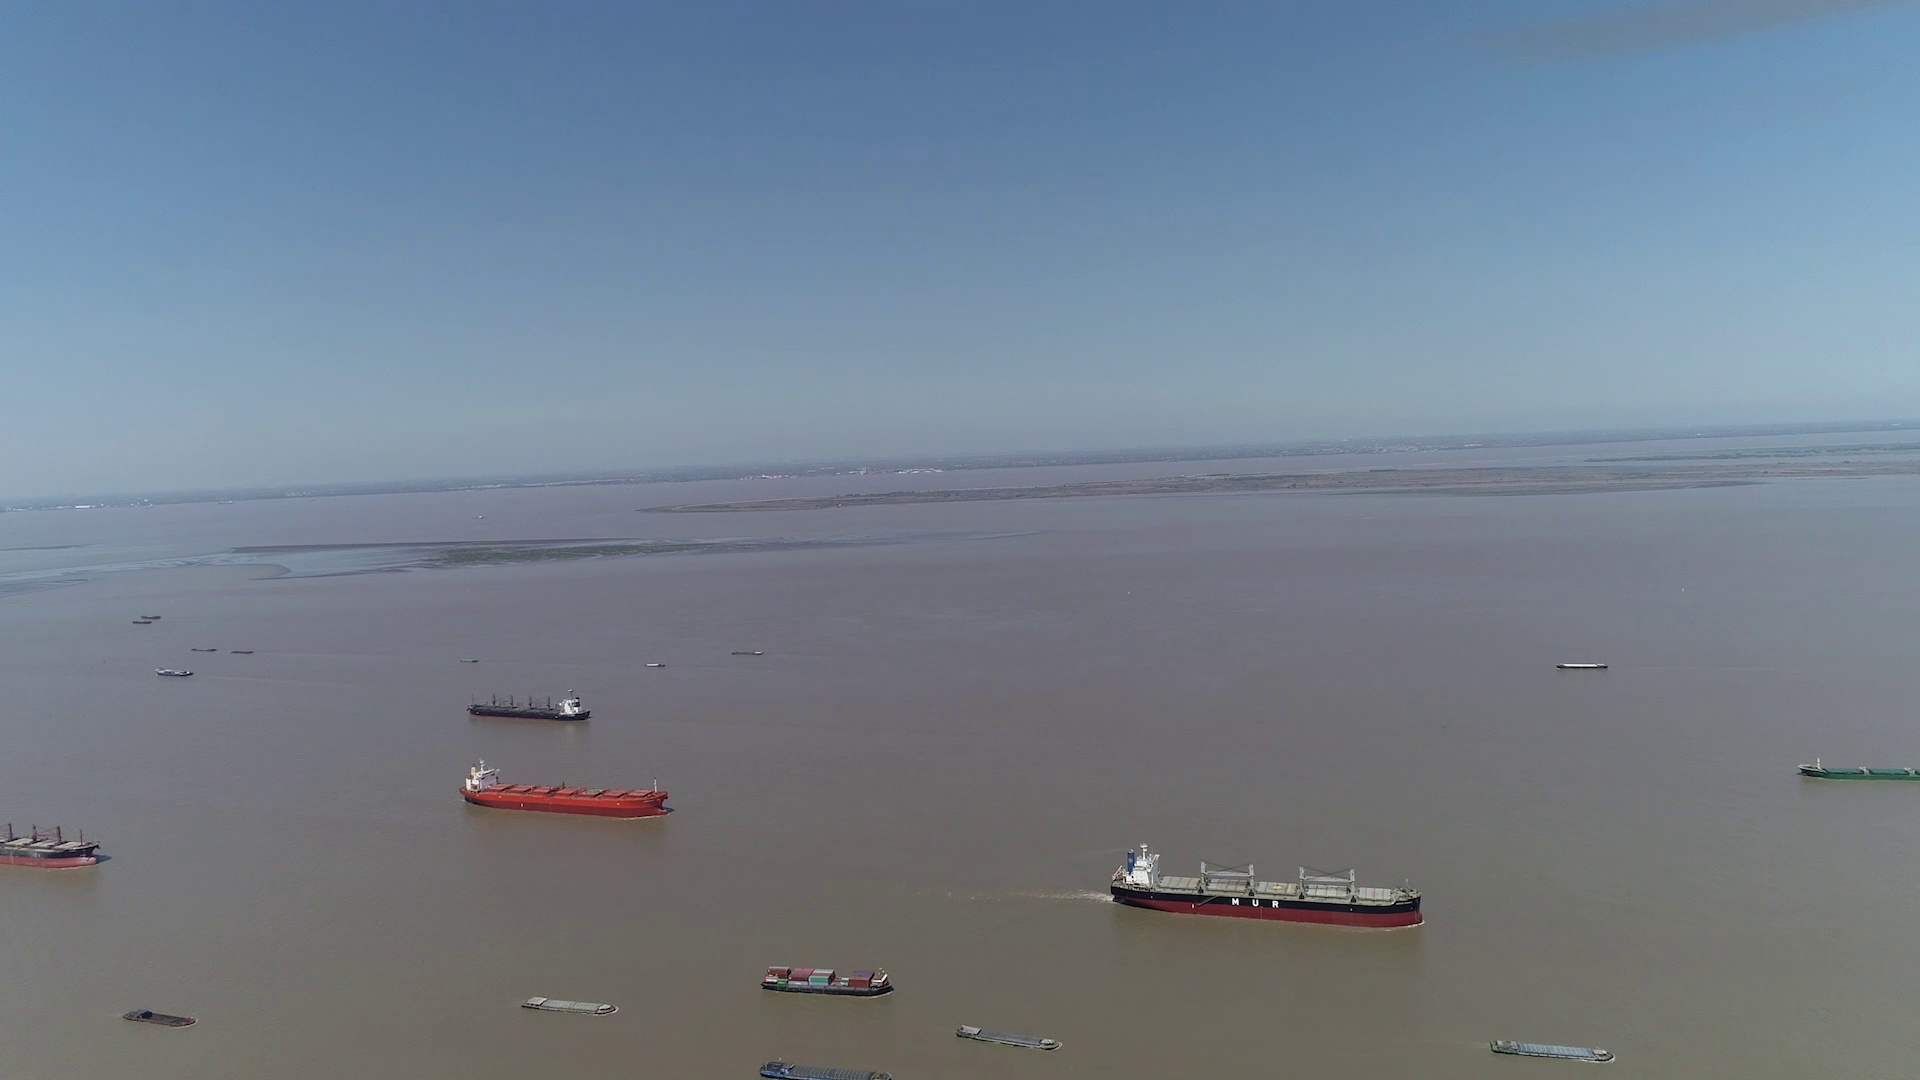ship: (1110, 843, 1424, 928), (463, 758, 669, 818), (1, 808, 100, 869), (760, 964, 895, 997), (468, 690, 592, 723), (1490, 1036, 1615, 1063), (1797, 758, 1919, 782), (761, 1059, 891, 1080), (956, 1025, 1062, 1050), (520, 994, 616, 1015), (127, 1010, 196, 1029), (1555, 662, 1610, 671), (154, 666, 193, 676)
